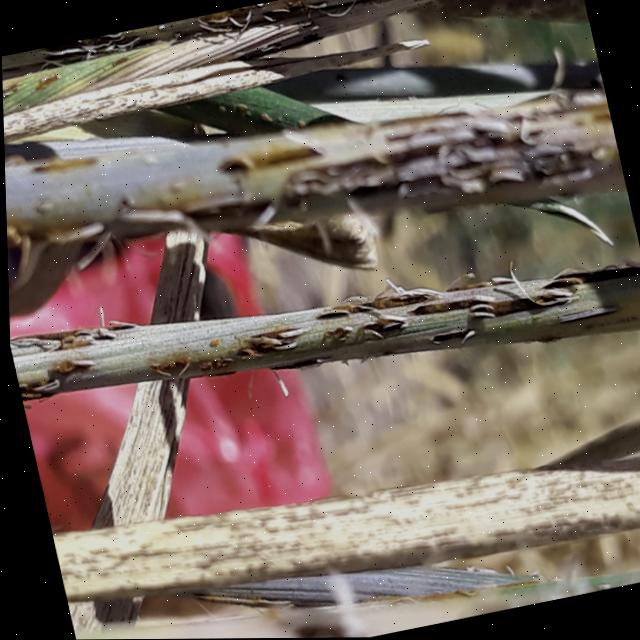black_stem_rust: (0, 0, 629, 318), (5, 205, 640, 486)
